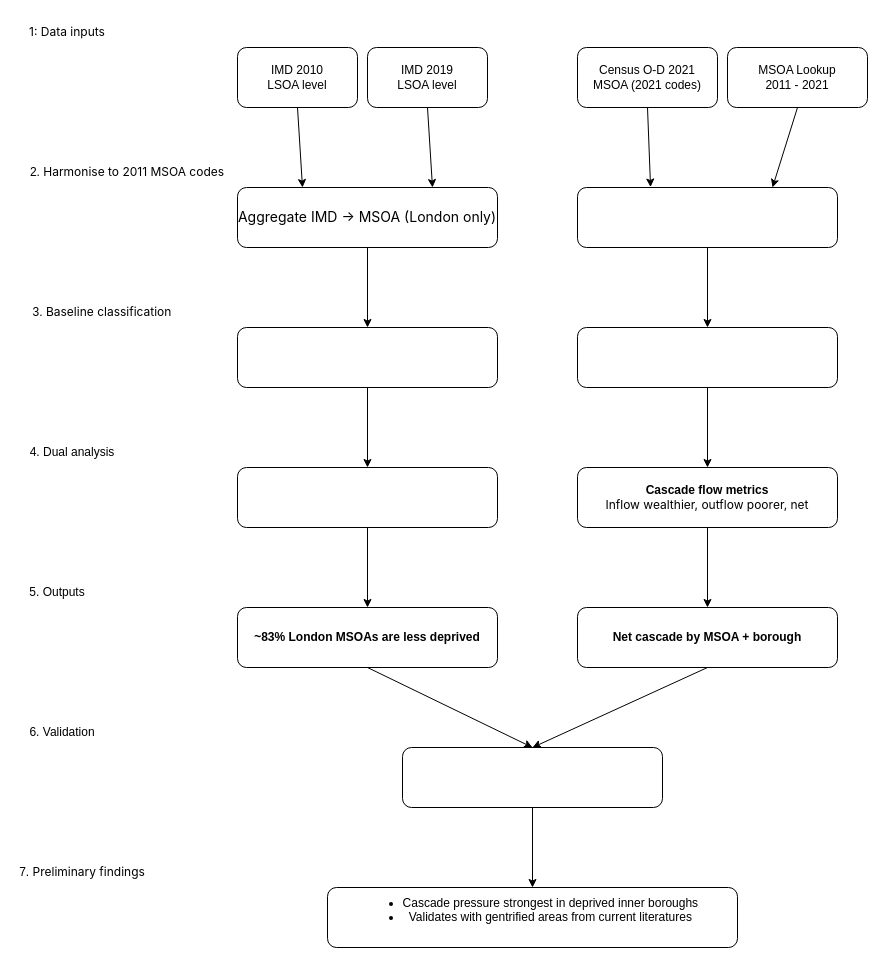
This 885x968 diagram has some shape labels left out. The shapes that lost their labels are listed below. From the top down, each one's centre as x and y in pixels, then its label:
the point at 707,217: Convert 2021 MSOA codes → 2011
the point at 367,357: Wealth decile (IMD 2010) Fixed baseline: 1=deprived, 10=wealthy
the point at 707,357: London O-D flows (2021) Map deciles to origin + destination
the point at 367,497: IMD change (2010 - 2019) Temporal validation dimension
the point at 532,777: Correlation: cascade index vs. IMD change (r = -0.42, p < 0.001)
